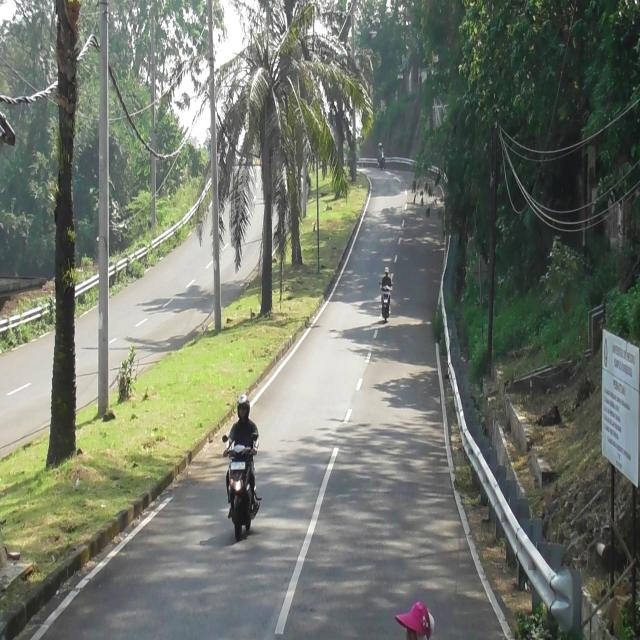motorcycle: (222, 431, 259, 539), (380, 284, 391, 323), (379, 151, 385, 169)
person: (223, 392, 259, 457), (380, 265, 393, 291), (378, 142, 384, 154)
rider_region: (224, 391, 259, 538), (381, 264, 394, 320), (377, 142, 386, 169)
